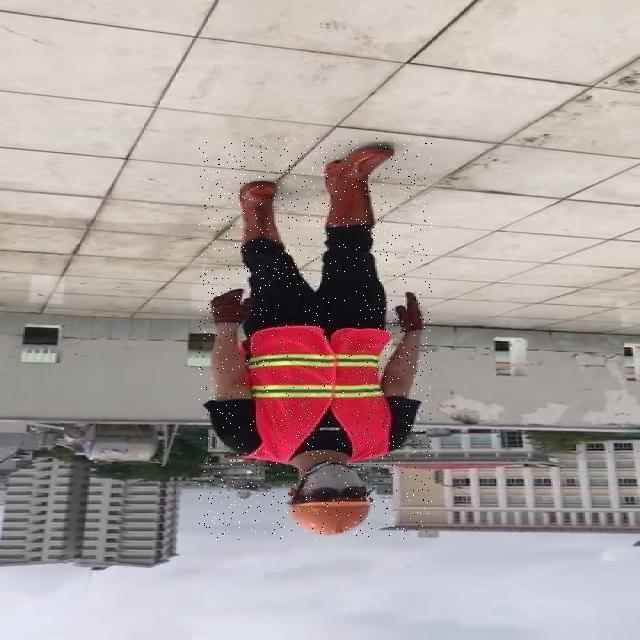gloves: (204, 286, 256, 328), (392, 285, 433, 336)
